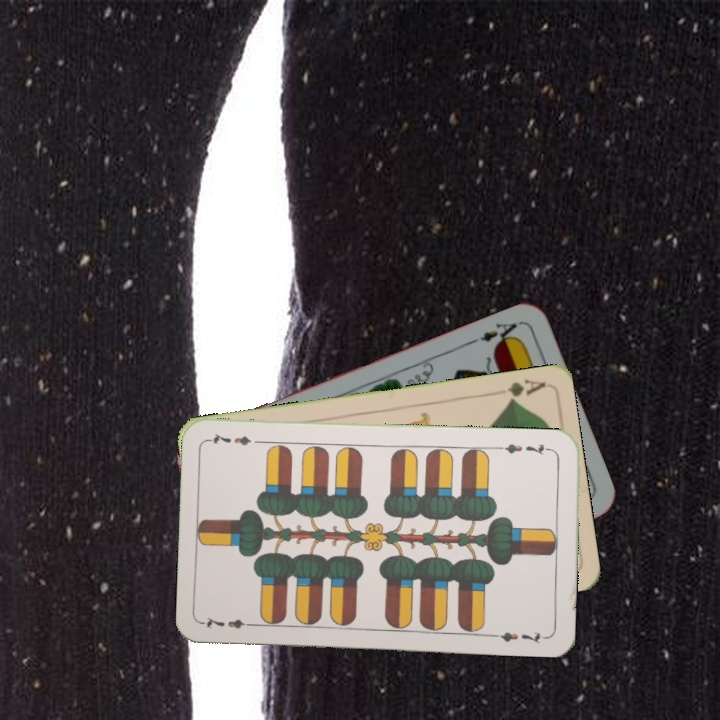E7: (200, 613, 259, 632), (496, 439, 555, 457)
EA: (466, 318, 523, 349)
GA: (504, 375, 547, 405)
